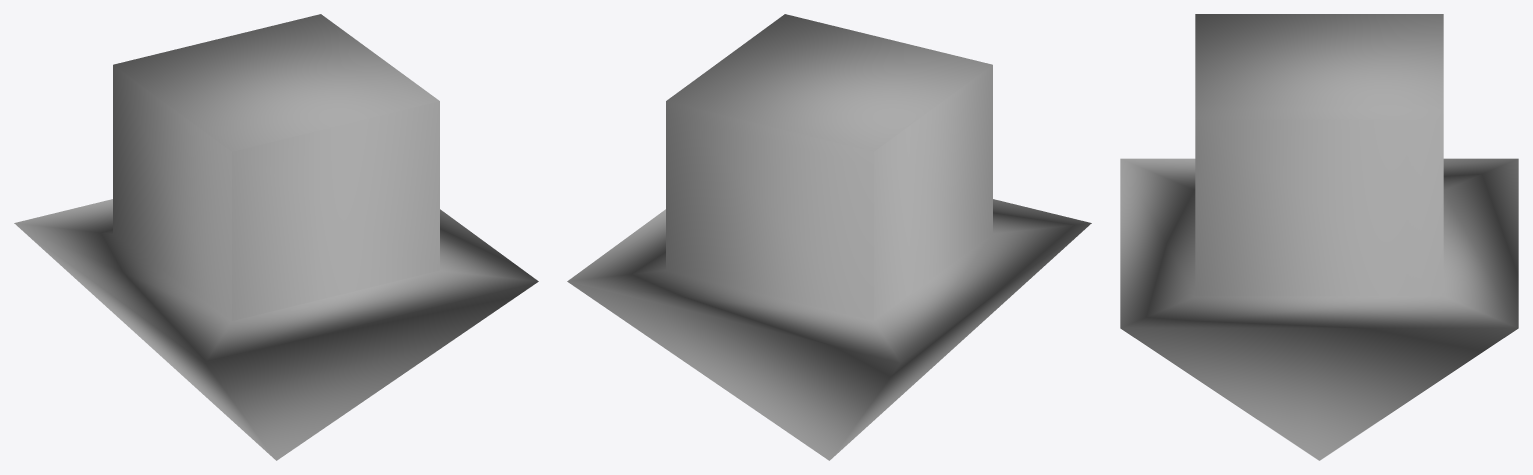
Rendered from ArrowModel.fbx.
3 views of the same model, side by side, from view 1: azimuth 30°, elevation 25°; view 2: azimuth 150°, elevation 25°; view 3: azimuth 270°, elevation 25° (orthographic). The views are drawn at different scales.
Visible parts, largest first — view 1: Arrow; view 2: Arrow; view 3: Arrow.
Boxes of the visible parts, <box> form: Arrow: <box>14,14,538,460</box>; Arrow: <box>567,14,1091,460</box>; Arrow: <box>1120,14,1518,460</box>.
Bounding box in the file's own units: 353 × 382 × 350.
Materials: 1 (1 with a texture image).
